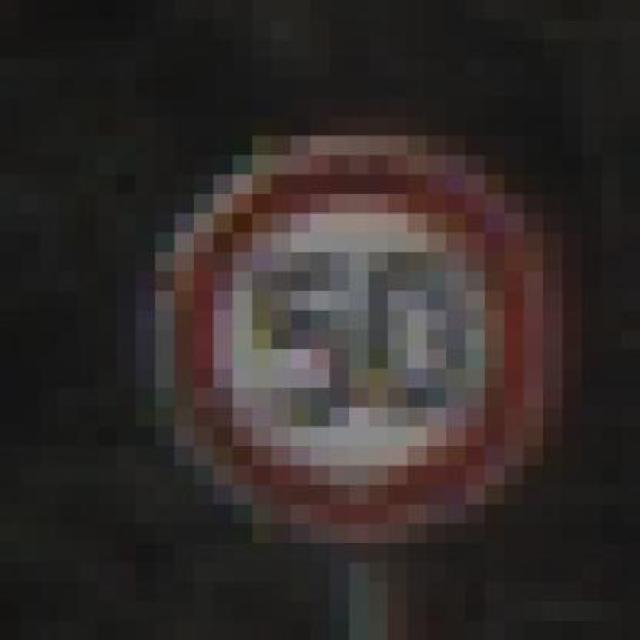50 mph speed limit: (152, 124, 560, 551)
